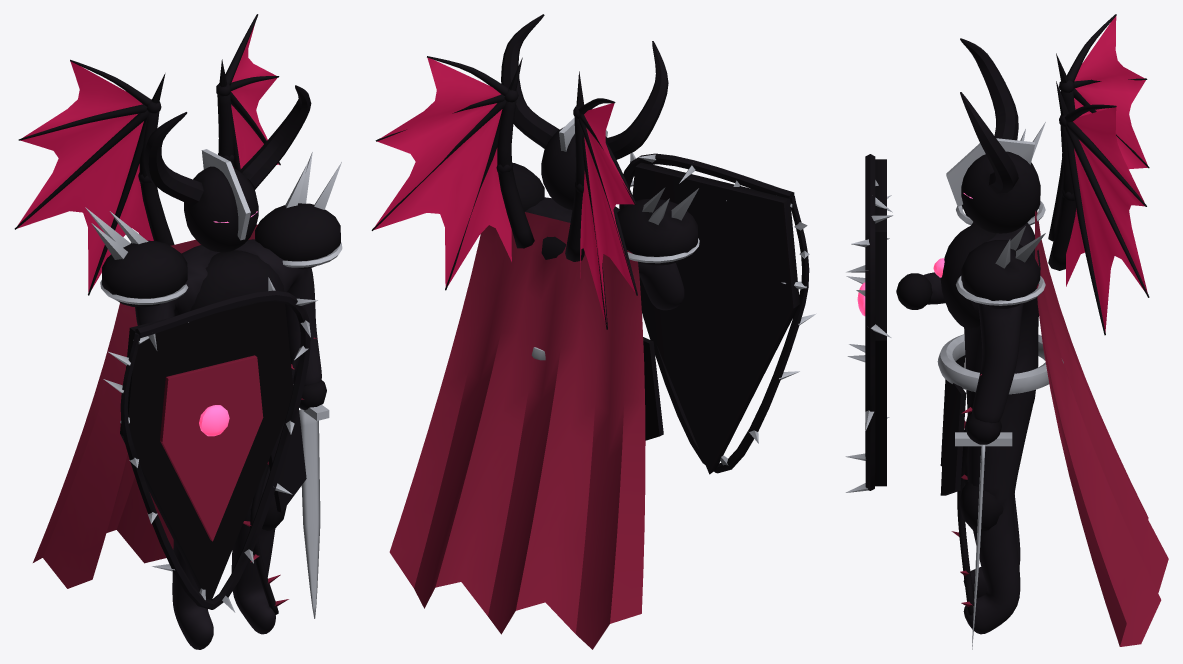
File: goth_thorn.glb
3 renders of one model, left to right at view 1: azimuth 30°, elevation 25°; view 2: azimuth 150°, elevation 25°; view 3: azimuth 270°, elevation 25°, orthographic.
Visible parts, largest first — view 1: body, wing_L_a, wing_R_a; view 2: body, wing_R_a, wing_L_a; view 3: body, wing_R_a, wing_L_a.
Part boxes in pixels (x1,y1,x2,y2): body: [33, 85, 342, 649]; wing_L_a: [14, 59, 174, 295]; wing_R_a: [216, 14, 280, 170]; body: [389, 14, 816, 649]; wing_R_a: [371, 56, 534, 290]; wing_L_a: [565, 71, 637, 329]; body: [845, 38, 1168, 649]; wing_R_a: [1048, 81, 1149, 335]; wing_L_a: [1048, 14, 1149, 241].
Size of the model in its own units: 1.24 by 2.15 by 1.13.
